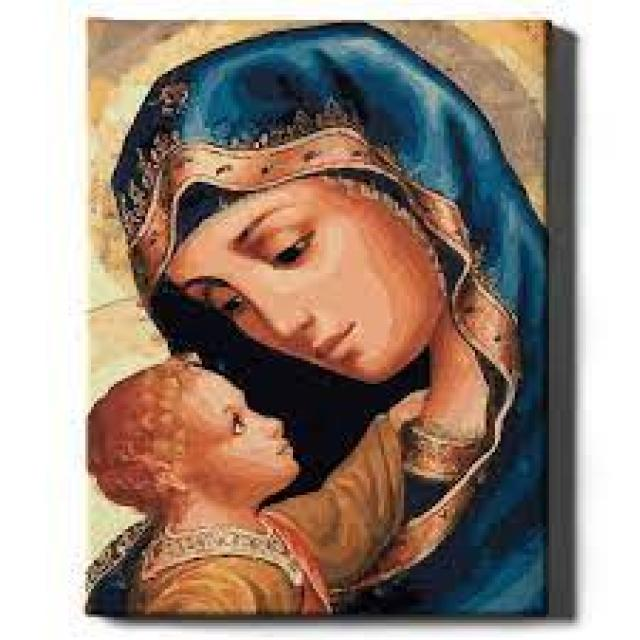mother of god: (83, 22, 567, 614)
